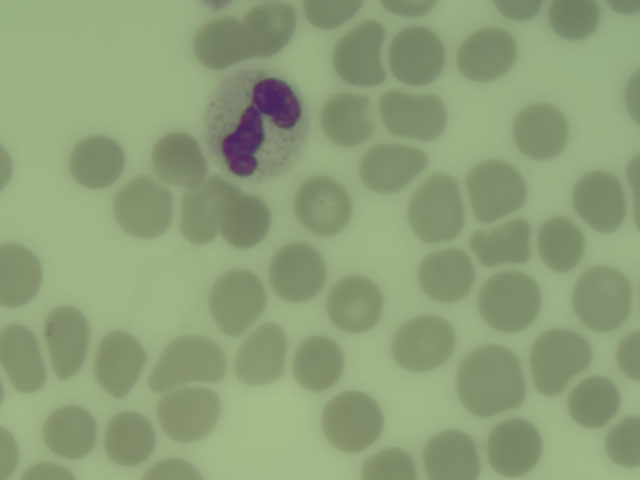RBC: (458, 346, 526, 414), (322, 387, 384, 453), (151, 332, 231, 382), (40, 305, 89, 381), (393, 313, 454, 374), (380, 84, 450, 135), (155, 385, 218, 440), (578, 170, 627, 240), (465, 158, 522, 218), (409, 178, 459, 246), (1, 310, 43, 390), (572, 272, 634, 326), (207, 273, 262, 332), (532, 330, 586, 390), (92, 330, 143, 393), (334, 24, 383, 89), (237, 326, 284, 391), (182, 179, 233, 238), (68, 136, 123, 186), (429, 428, 484, 478), (487, 416, 542, 466), (513, 105, 568, 155), (319, 93, 374, 143), (459, 28, 514, 78), (388, 29, 443, 79), (240, 1, 295, 51), (195, 16, 250, 66), (115, 183, 170, 233), (482, 273, 537, 323), (419, 249, 474, 299), (297, 182, 352, 232), (41, 405, 96, 455), (102, 410, 157, 460), (327, 276, 382, 326), (270, 246, 325, 296), (570, 378, 625, 428), (536, 213, 584, 270), (359, 146, 424, 184), (473, 221, 533, 262), (152, 132, 205, 178), (295, 334, 338, 389), (220, 195, 267, 244), (546, 2, 603, 42), (544, 1, 601, 40), (1, 246, 35, 307), (606, 418, 640, 471), (357, 449, 413, 480), (304, 1, 356, 32), (147, 456, 207, 480), (17, 456, 77, 480), (615, 329, 640, 376), (379, 1, 443, 18), (621, 73, 640, 119), (494, 1, 540, 17)
WBC: (205, 78, 307, 171)
